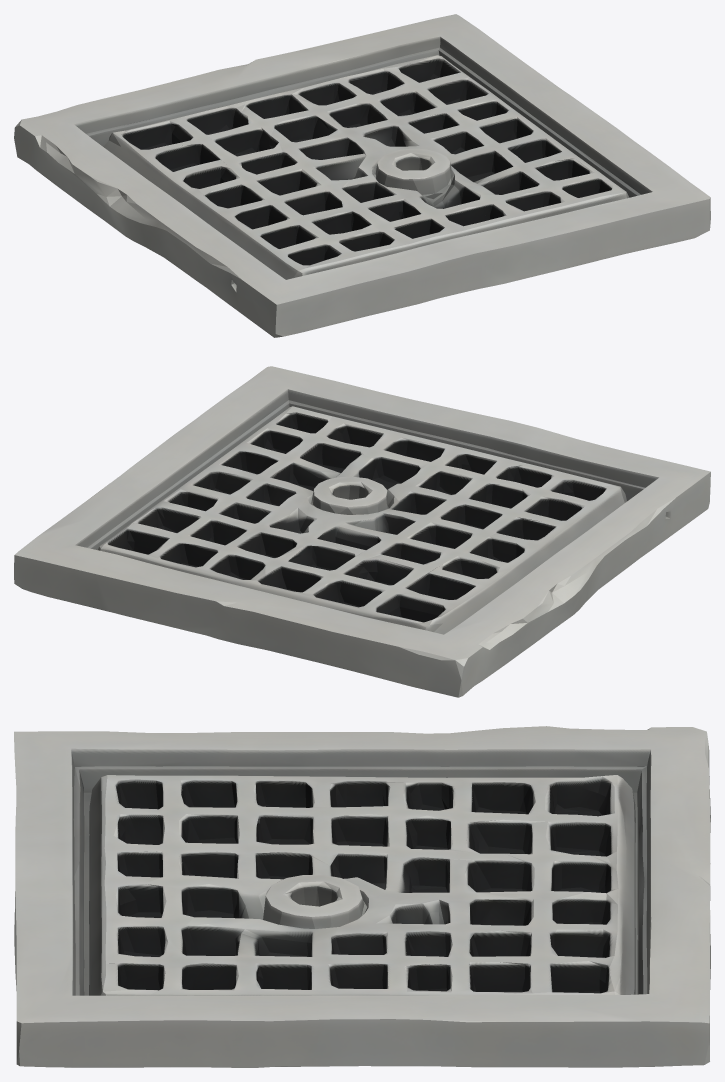
The model's file is drain.glb.
The picture shows the model from 3 angles, top to bottom: view 1: azimuth 30°, elevation 25°; view 2: azimuth 150°, elevation 25°; view 3: azimuth 270°, elevation 25°; orthographic projection. The views are drawn at different scales.
Visible parts, largest first — view 1: model; view 2: model; view 3: model.
Boxes of the visible parts, box(x1,y1,x2,y2) form: model: box(14, 14, 710, 337); model: box(14, 366, 710, 697); model: box(14, 726, 710, 1067).
Size of the model in its own units: 1.9 by 0.1616 by 1.88.
1 material, 1 textured.
